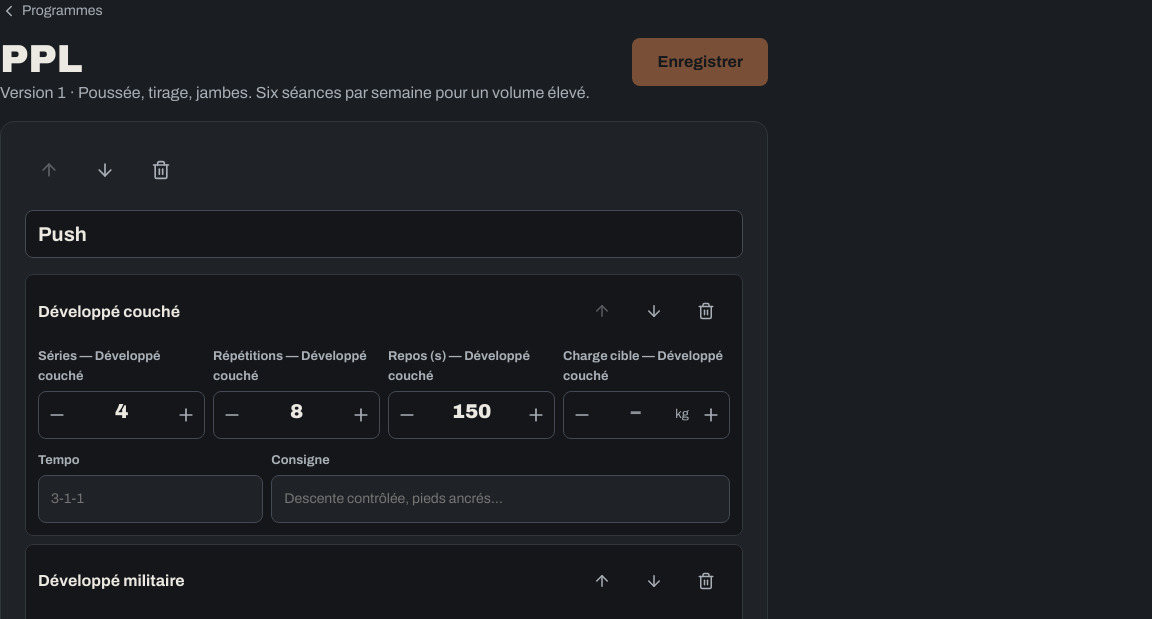
Scenario: ProgramEditorView › supprime un jour vide sans question, un jour rempli après confirmation
This screenshot has width=1152, height=619.
Click the button named "Supprimer Push" at (161, 170), box x1=137 y1=146 x2=185 y2=194
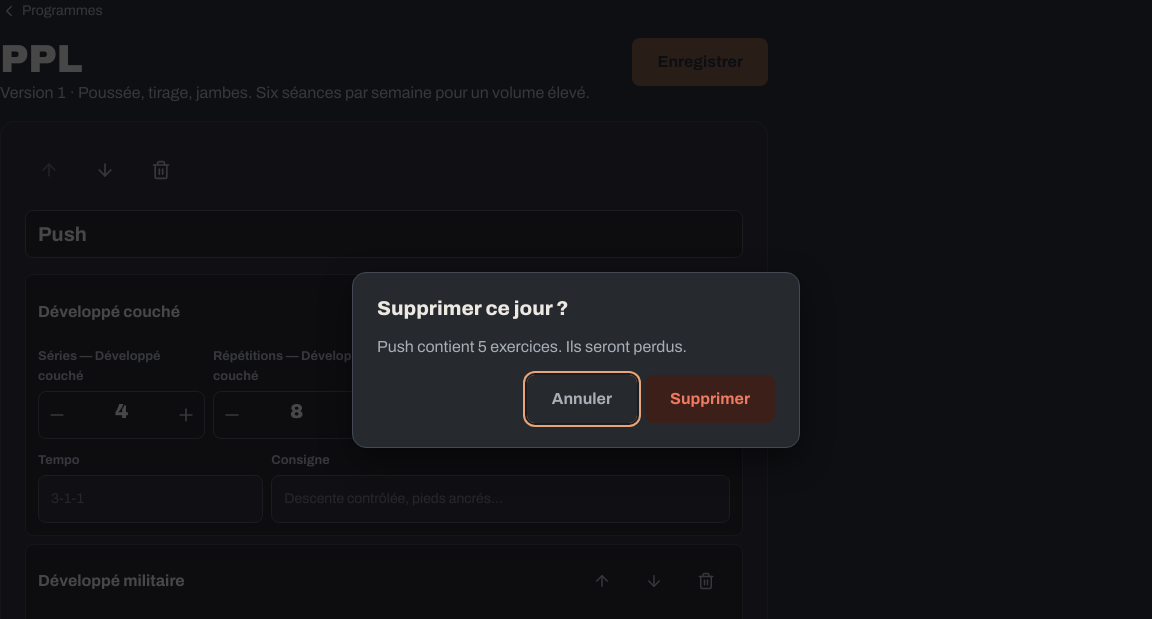
Check: the dialog is shown, box x1=352 y1=272 x2=800 y2=448
Check: the dialog shows "Push contient 5 exercices", box x1=377 y1=338 x2=687 y2=355
Click the button "Supprimer" at (710, 399), box x1=645 y1=375 x2=775 y2=423
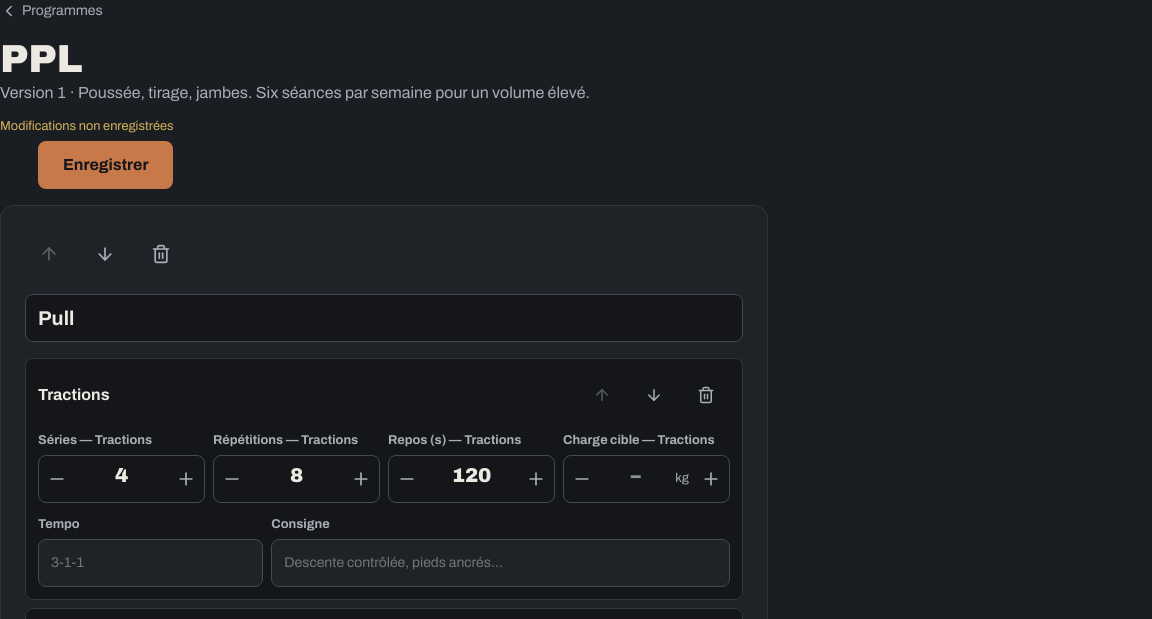
Check: the number of fields with class "editor__day-input" is 2
